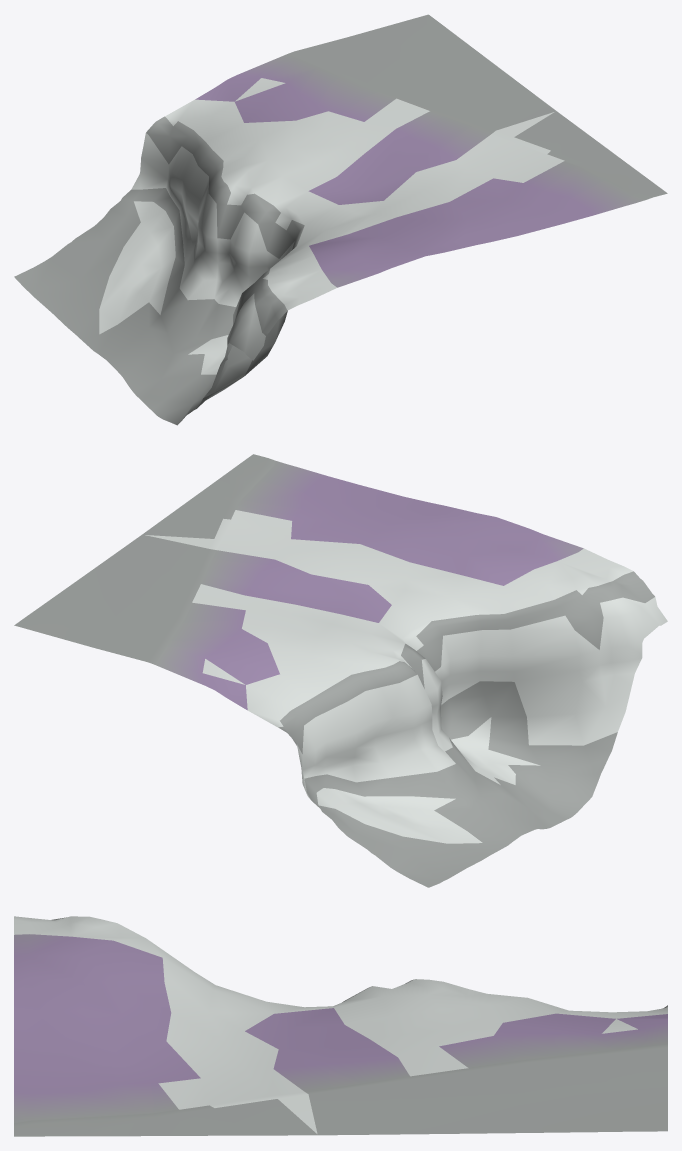
3 renders of one model, top to bottom at view 1: azimuth 30°, elevation 25°; view 2: azimuth 150°, elevation 25°; view 3: azimuth 270°, elevation 25°, orthographic. The views are drawn at different scales.
Parts seen in each view (by area): view 1: G:\FFXIV-MapTools\exports\m5f1\bg\ex4\02_mid_m5\fld\m5f1\bgp (×10); view 2: G:\FFXIV-MapTools\exports\m5f1\bg\ex4\02_mid_m5\fld\m5f1\bgp (×12); view 3: G:\FFXIV-MapTools\exports\m5f1\bg\ex4\02_mid_m5\fld\m5f1\bgp (×5).
Part boxes in pixels (box(x1,y1,x2,y2)): G:\FFXIV-MapTools\exports\m5f1\bg\ex4\02_mid_m5\fld\m5f1\bgp (×10): box(14, 14, 667, 425); G:\FFXIV-MapTools\exports\m5f1\bg\ex4\02_mid_m5\fld\m5f1\bgp (×12): box(14, 454, 667, 887); G:\FFXIV-MapTools\exports\m5f1\bg\ex4\02_mid_m5\fld\m5f1\bgp (×5): box(14, 916, 667, 1136).
Bounding box in the file's own units: 128 × 57.67 × 128.
